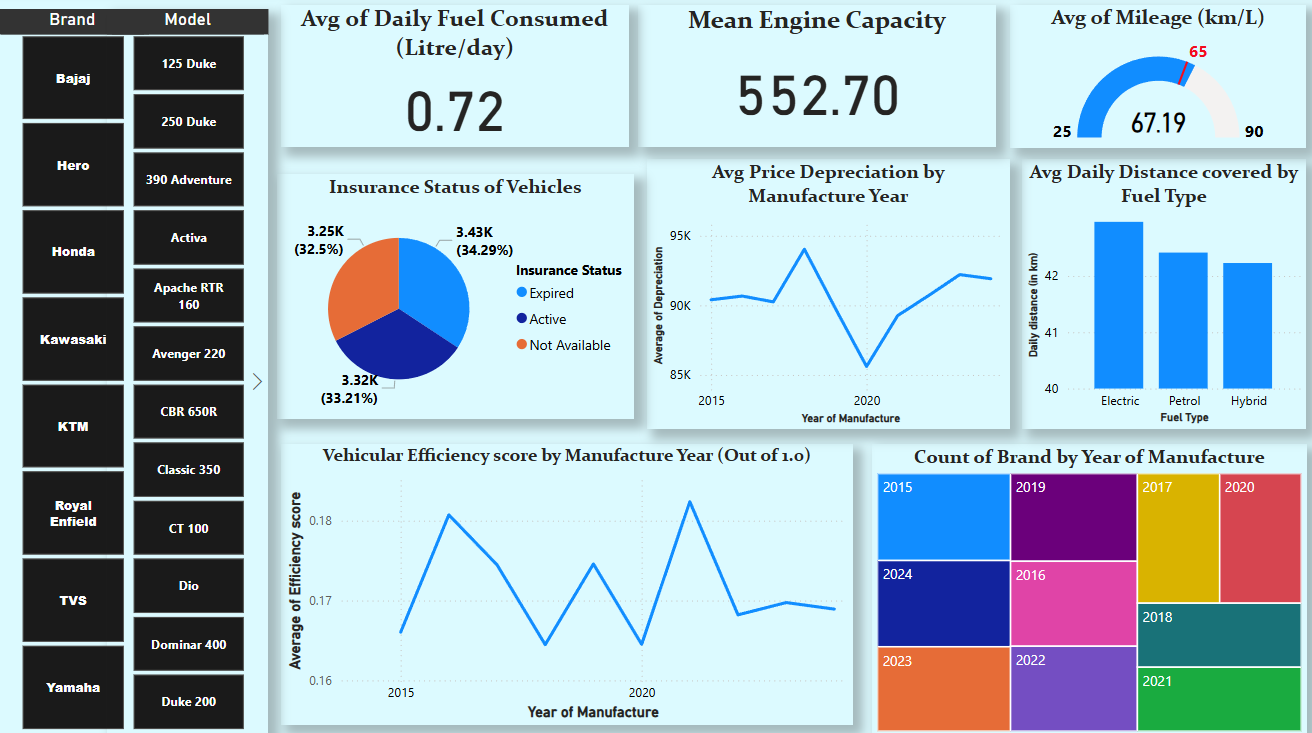

Layout of this report page (visuals, bound fields, positions):
{"tool":"powerbi","page":{"name":"Page 2","canvas":[1280,720],"ordinal":1},"visuals":[{"type":"slicer","title":"Brand","fields":{"Values":["bike_sales_india.Brand"]},"box":[0,14.9,148,705.3],"z":0},{"type":"pieChart","title":"Insurance Status of Vehicles","fields":{"Category":["bike_sales_india.Insurance Status"],"Y":["CountNonNull(bike_sales_india.Brand)"]},"box":[272.4,174.2,347.1,237.6],"z":1000},{"type":"slicer","title":"Model","fields":{"Values":["bike_sales_india.Model"]},"box":[108.2,14.9,156.7,705.3],"z":2000},{"type":"card","title":"Avg of Daily Fuel Consumed (Litre/day)","fields":{"Values":["Avg(bike_sales_india.Daily fuel consumption)"]},"box":[276.2,10,337.1,138.1],"z":3000},{"type":"lineChart","title":"Vehicular Efficiency score by Manufacture Year (Out of 1.0)","fields":{"Category":["bike_sales_india.Year of Manufacture"],"Y":["Avg(bike_sales_india.Efficiency score)"]},"box":[276.2,436.6,554.8,272.4],"z":4000},{"type":"lineChart","title":"Avg Price Depreciation by Manufacture Year","fields":{"Category":["bike_sales_india.Year of Manufacture"],"Y":["Avg(bike_sales_india.Depreciation)"]},"box":[631.6,160.8,351.9,262],"z":5000},{"type":"gauge","title":"Avg of Mileage (km/L)","fields":{"Y":["Avg(bike_sales_india.Mileage (km/l))"],"TargetValue":["bike_sales_india.Target_mil"],"MinValue":["bike_sales_india.Min mileage"],"MaxValue":["bike_sales_india.Max mileage"]},"box":[984,10,287.4,139.3],"z":6000},{"type":"treemap","fields":{"Group":["bike_sales_india.Year of Manufacture"],"Values":["CountNonNull(bike_sales_india.Brand)"]},"box":[849.6,436.6,421.7,283.6],"z":7000},{"type":"card","title":"Mean Engine Capacity","fields":{"Values":["Avg(bike_sales_india.Engine Capacity (cc))"]},"box":[623.2,10,347.1,138.1],"z":8000},{"type":"clusteredColumnChart","title":"Avg Daily Distance covered by Fuel Type","fields":{"Category":["bike_sales_india.Fuel Type"],"Y":["Avg(bike_sales_india.Avg Daily Distance (km))"]},"box":[995.9,160.3,275.6,261.8],"z":9000}]}

Visuals, with their boxes in screenshot pixels (x1, y1, x2, y2), scaled from the page's 1280x720 canvas onto the 1312x733 screenshot:
"Brand" slicer: region(0, 15, 152, 732)
"Insurance Status of Vehicles" pieChart: region(279, 177, 635, 419)
"Model" slicer: region(111, 15, 272, 732)
"Avg of Daily Fuel Consumed (Litre/day)" card: region(283, 10, 629, 151)
"Vehicular Efficiency score by Manufacture Year (Out of 1.0)" lineChart: region(283, 444, 852, 722)
"Avg Price Depreciation by Manufacture Year" lineChart: region(647, 164, 1008, 430)
"Avg of Mileage (km/L)" gauge: region(1009, 10, 1303, 152)
treemap - bike_sales_india.Year of Manufacture x CountNonNull(bike_sales_india.Brand): region(871, 444, 1303, 732)
"Mean Engine Capacity" card: region(639, 10, 995, 151)
"Avg Daily Distance covered by Fuel Type" clusteredColumnChart: region(1021, 163, 1303, 430)
